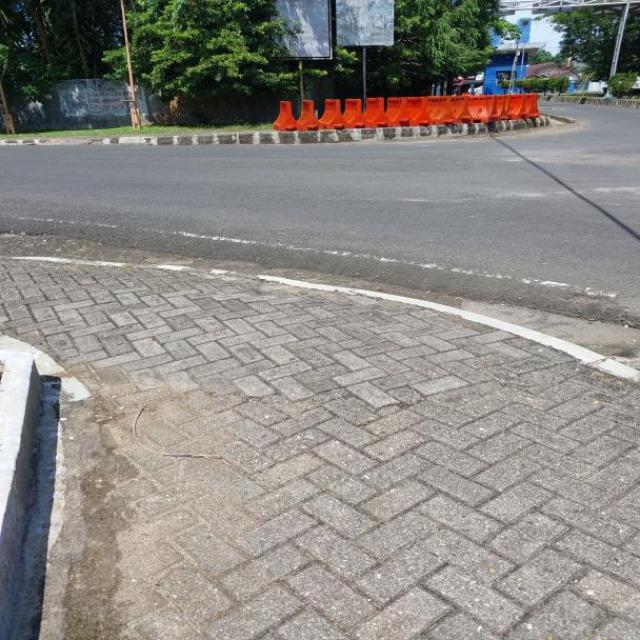barrier ahead at: (264, 94, 300, 136)
